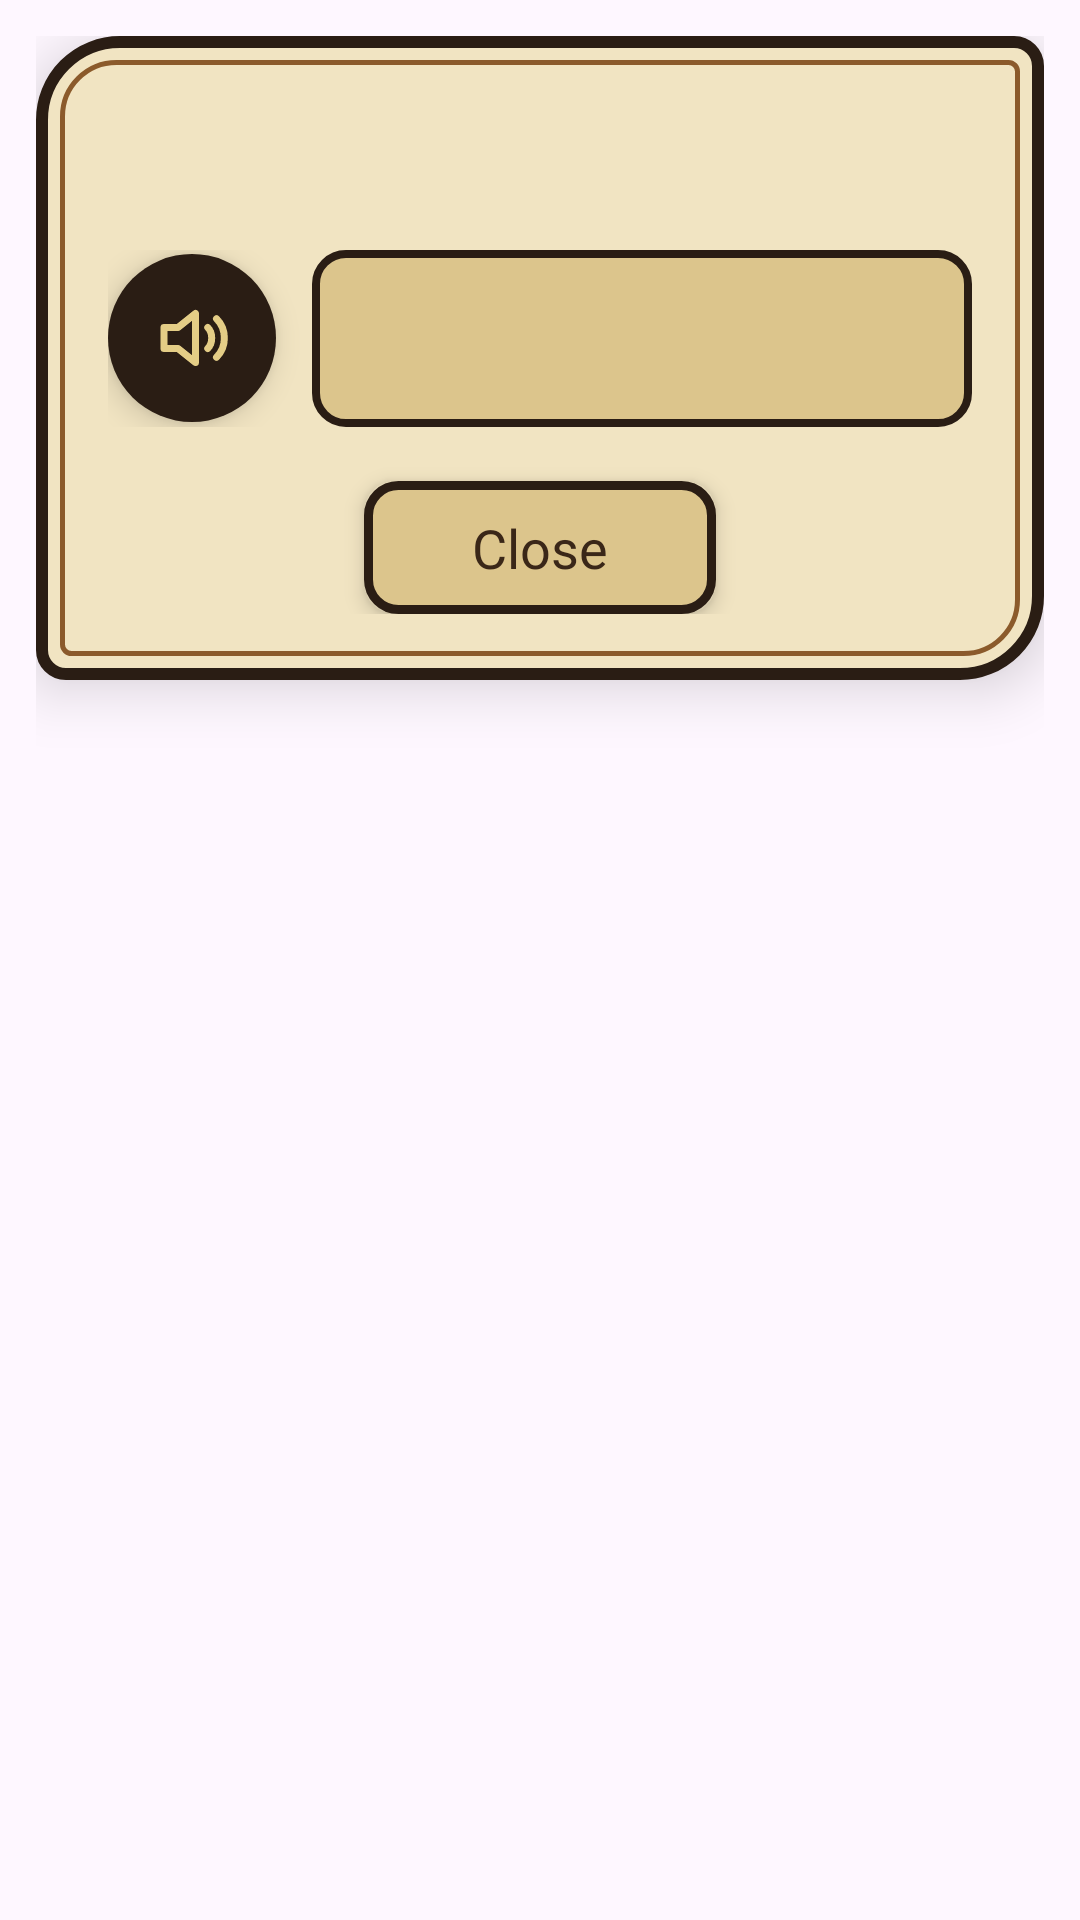

Where icons sit on this 1080x1920 app screen, as [left=x1, top=y1, right=x2, bottom=y2]:
Read again: [left=108, top=254, right=276, bottom=422]
